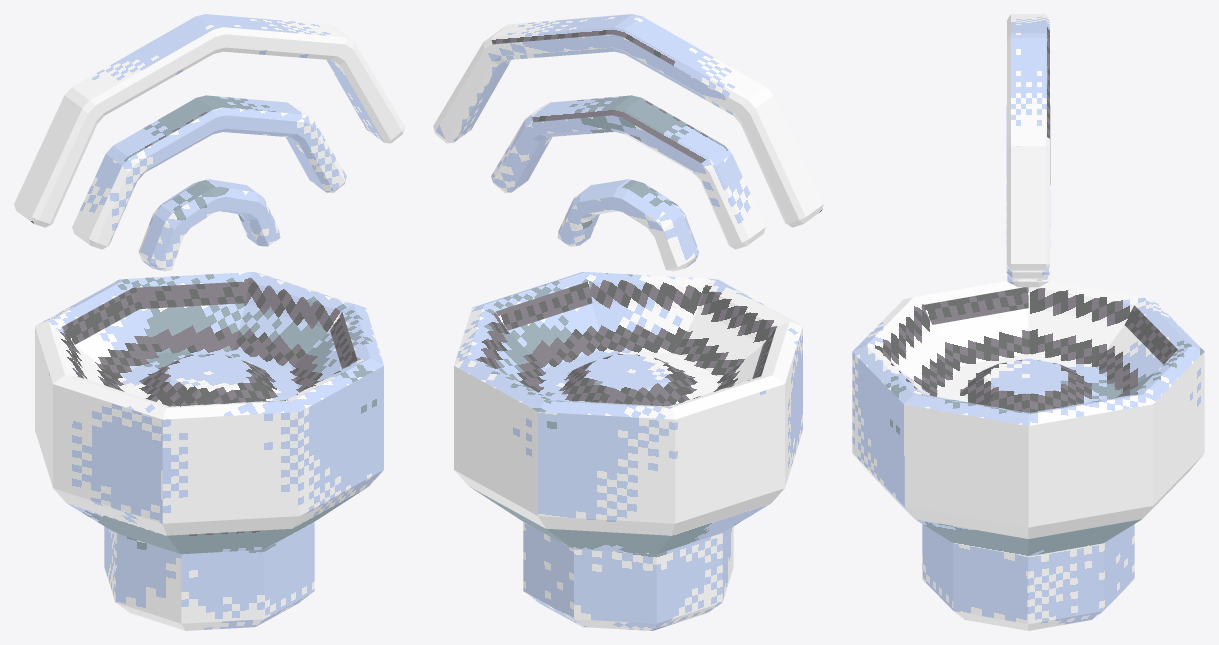
The model's file is VolumeUp.glb.
The picture shows the model from 3 angles, left to right: view 1: azimuth 30°, elevation 25°; view 2: azimuth 150°, elevation 25°; view 3: azimuth 270°, elevation 25°; orthographic projection. The views are drawn at different scales.
Parts seen in each view (by area): view 1: Speaker; view 2: Speaker; view 3: Speaker.
Part boxes in pixels (x1,y1,x2,y2): Speaker: (14,14,404,630); Speaker: (433,14,823,630); Speaker: (852,14,1204,630).
Bounding box in the file's own units: 2.38 × 3.49 × 2.
1 material, 1 textured.
